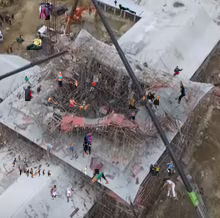Human: (12, 34, 44, 50), (129, 92, 159, 109), (47, 142, 78, 158), (47, 95, 82, 109), (50, 185, 75, 203), (149, 161, 177, 176), (160, 178, 176, 199), (25, 85, 46, 101), (82, 132, 94, 158), (20, 168, 51, 178), (89, 169, 109, 184), (52, 71, 67, 90), (11, 155, 32, 167), (38, 3, 52, 20), (118, 4, 136, 17), (177, 80, 186, 104), (89, 80, 107, 91), (78, 100, 91, 113), (68, 80, 83, 90), (173, 66, 183, 79), (129, 110, 138, 124), (84, 165, 88, 178), (23, 76, 29, 84), (98, 68, 102, 78), (5, 15, 9, 24), (8, 16, 12, 25), (179, 123, 184, 128), (114, 0, 117, 6), (25, 52, 28, 57), (4, 140, 6, 146), (47, 164, 50, 167), (42, 0, 43, 2)
